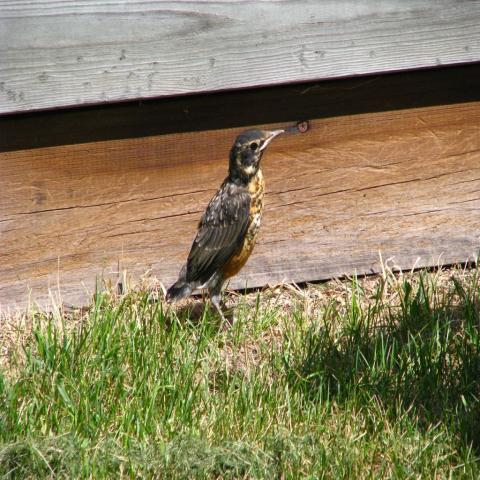bird: (164, 125, 286, 326)
